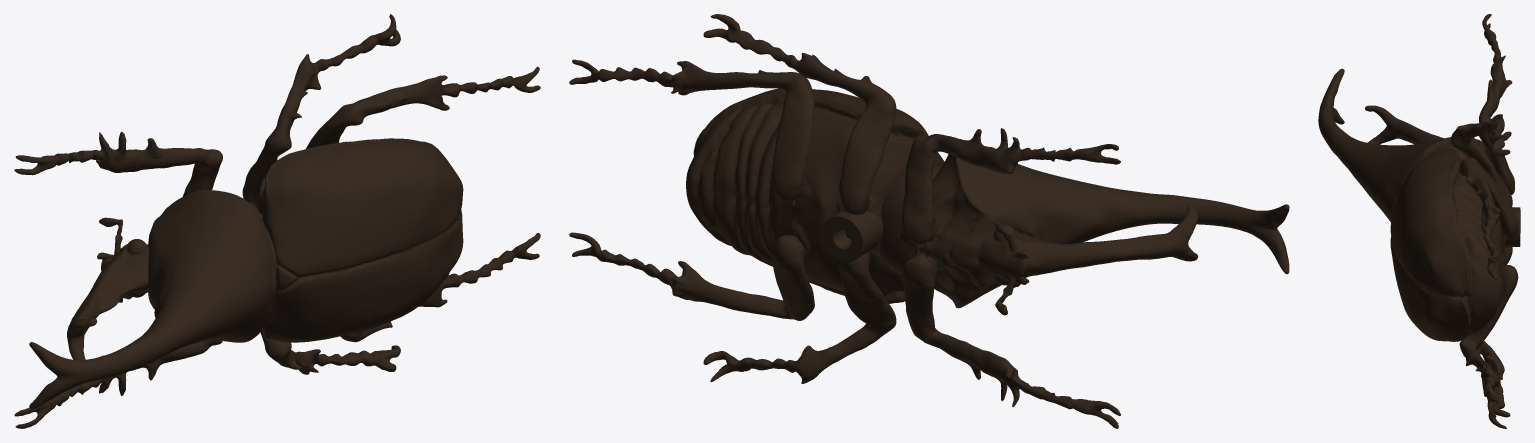
Rendered from xylotrupes_gideon.glb.
3 views of the same model, side by side, from view 1: azimuth 30°, elevation 25°; view 2: azimuth 150°, elevation 25°; view 3: azimuth 270°, elevation 25° (orthographic). The views are drawn at different scales.
Parts seen in each view (by area): view 1: shell_body; view 2: shell_body; view 3: shell_body.
Boxes of the visible parts, left/top/right/bottom form: shell_body: left=14, top=14, right=540, bottom=428; shell_body: left=569, top=14, right=1289, bottom=428; shell_body: left=1318, top=14, right=1520, bottom=428.
Bounding box in the file's own units: 3.74 × 2.1 × 1.31.
